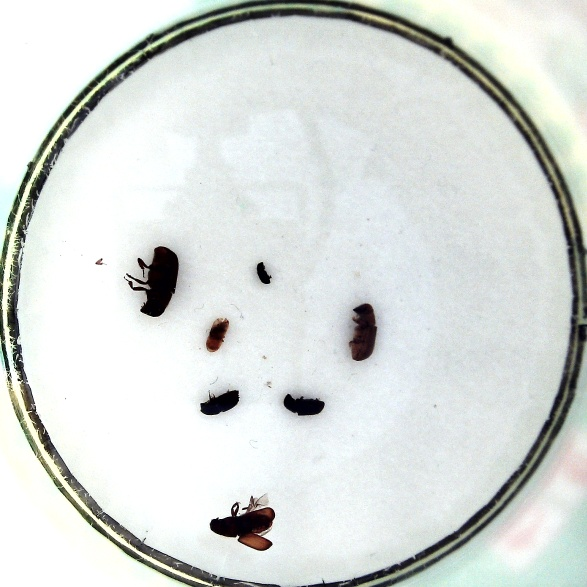acuminatus: (204, 316, 231, 353)
armandi: (280, 390, 326, 416)
coleoptera: (254, 258, 272, 285)
leconte: (127, 245, 179, 317), (208, 496, 276, 551), (348, 303, 378, 361)
linnaeus: (199, 388, 241, 414)
